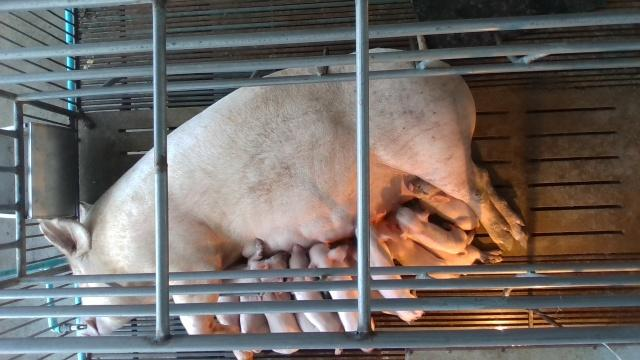piglet: (308, 243, 374, 353), (284, 243, 337, 352), (379, 226, 460, 278), (261, 255, 300, 356), (396, 206, 474, 255), (409, 181, 481, 229), (241, 259, 267, 337)
sow-sleep-lactate: (38, 49, 531, 334)
